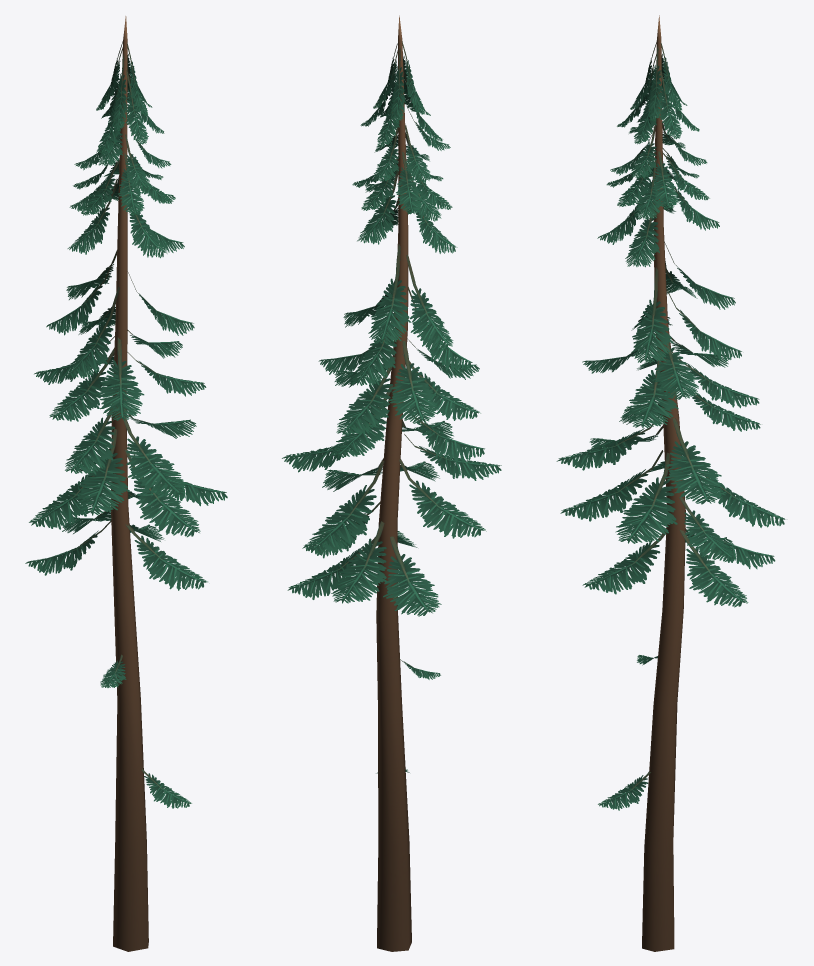
The model's file is Pine_Tree_3F.fbx.
The picture shows the model from 3 angles, left to right: view 1: azimuth 30°, elevation 25°; view 2: azimuth 150°, elevation 25°; view 3: azimuth 270°, elevation 25°; orthographic projection.
Visible parts, largest first — view 1: Pine_Tree_3F; view 2: Pine_Tree_3F; view 3: Pine_Tree_3F.
Part boxes in pixels (x1,y1,x2,y2): Pine_Tree_3F: [25, 16, 227, 951]; Pine_Tree_3F: [282, 15, 501, 951]; Pine_Tree_3F: [556, 15, 785, 951].
Bounding box in the file's own units: 491 × 2146 × 537.
